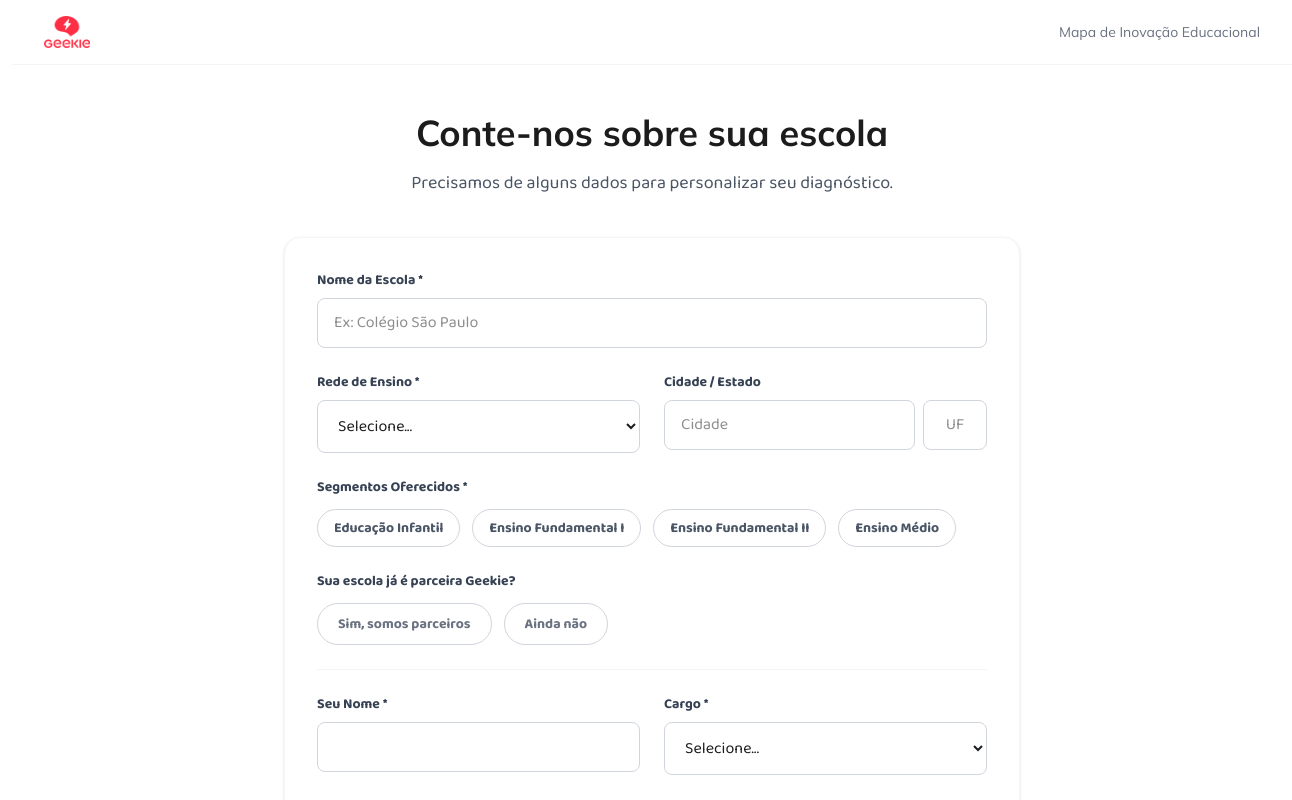
Test case: fluxo: Cadastro → Instrucao › navega para /instrucao após preenchimento válido do formulário
In the field named "nome": (652, 323) left=317, top=298, right=987, bottom=348, type "Escola Teste"
Select "Privada" in the dropdown named "rede": (478, 426) left=317, top=400, right=640, bottom=453
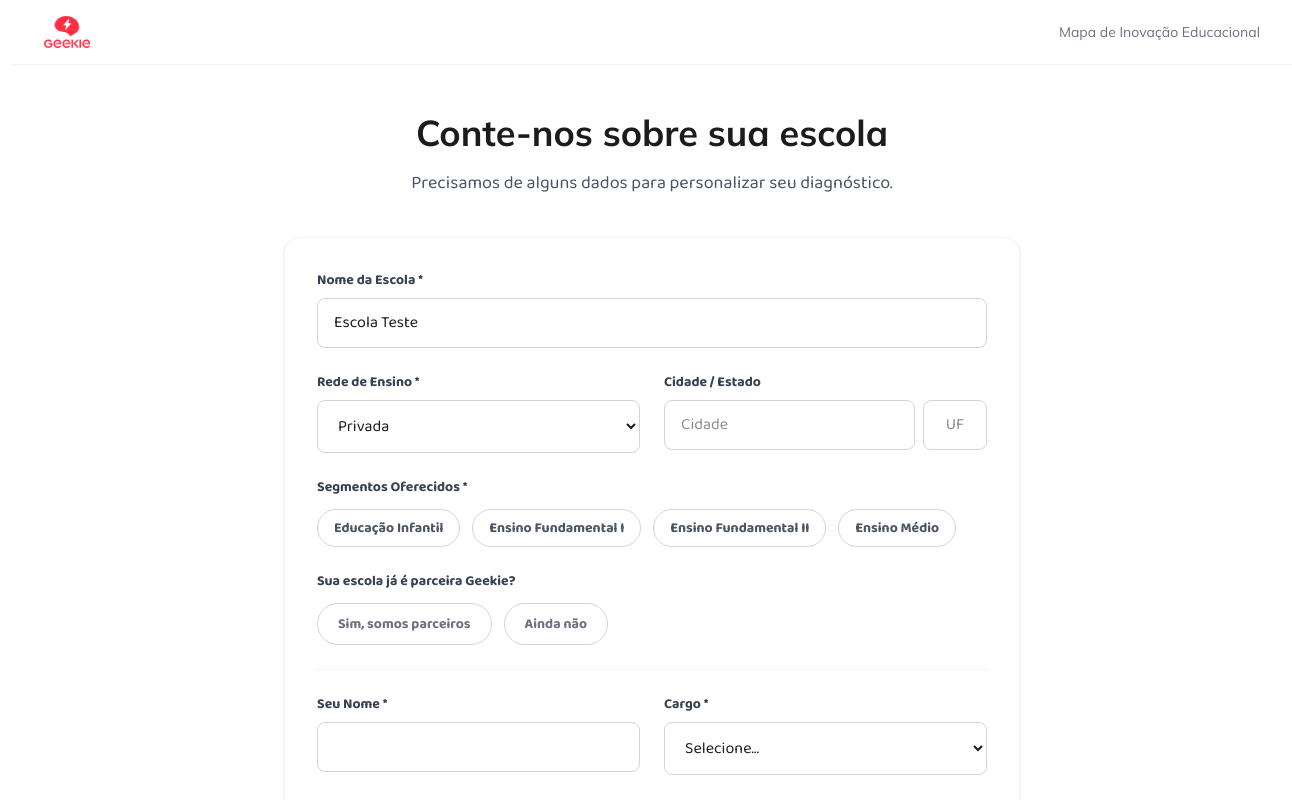
Note: Segmentos: clique no botão do SegmentoSelector
Click the button "Ensino Médio": (897, 528) left=838, top=509, right=956, bottom=547
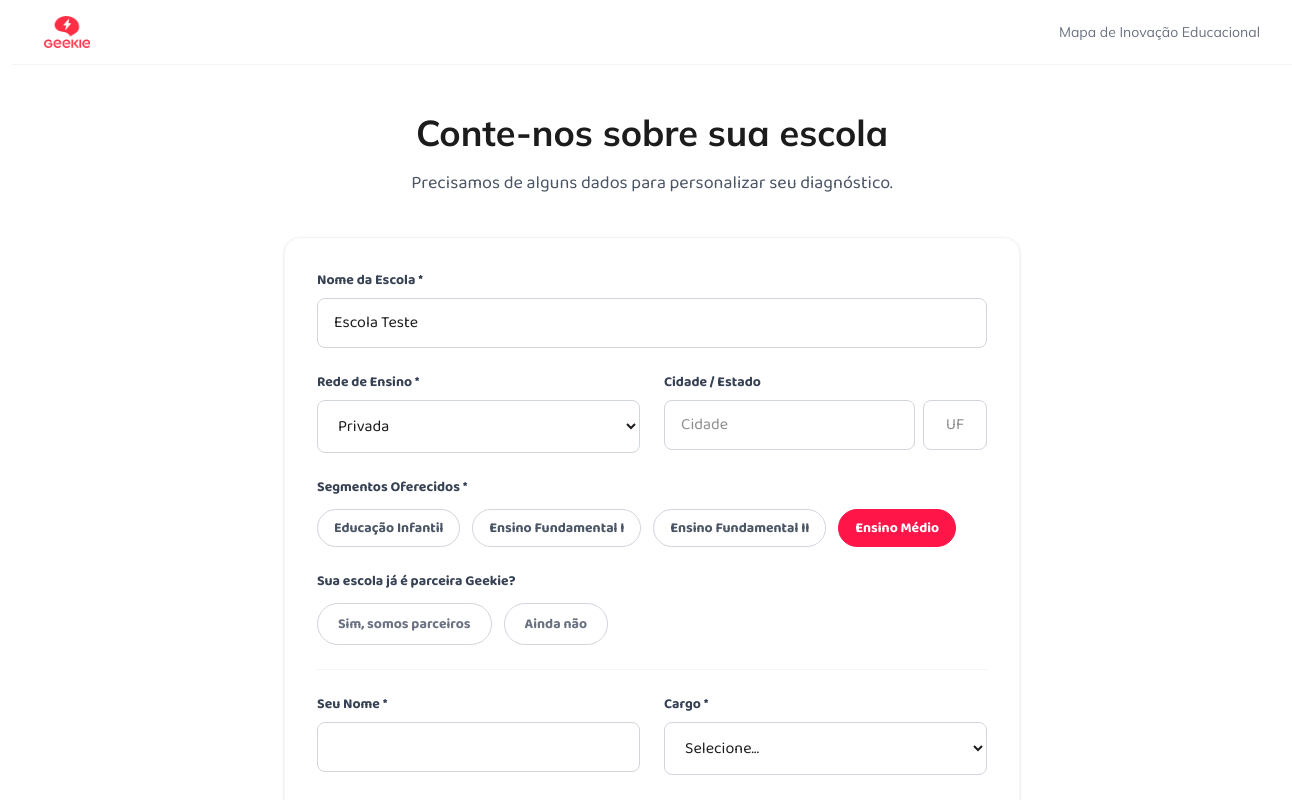
In the field named "contato_nome": (478, 747) left=317, top=722, right=640, bottom=772, type "João Silva"
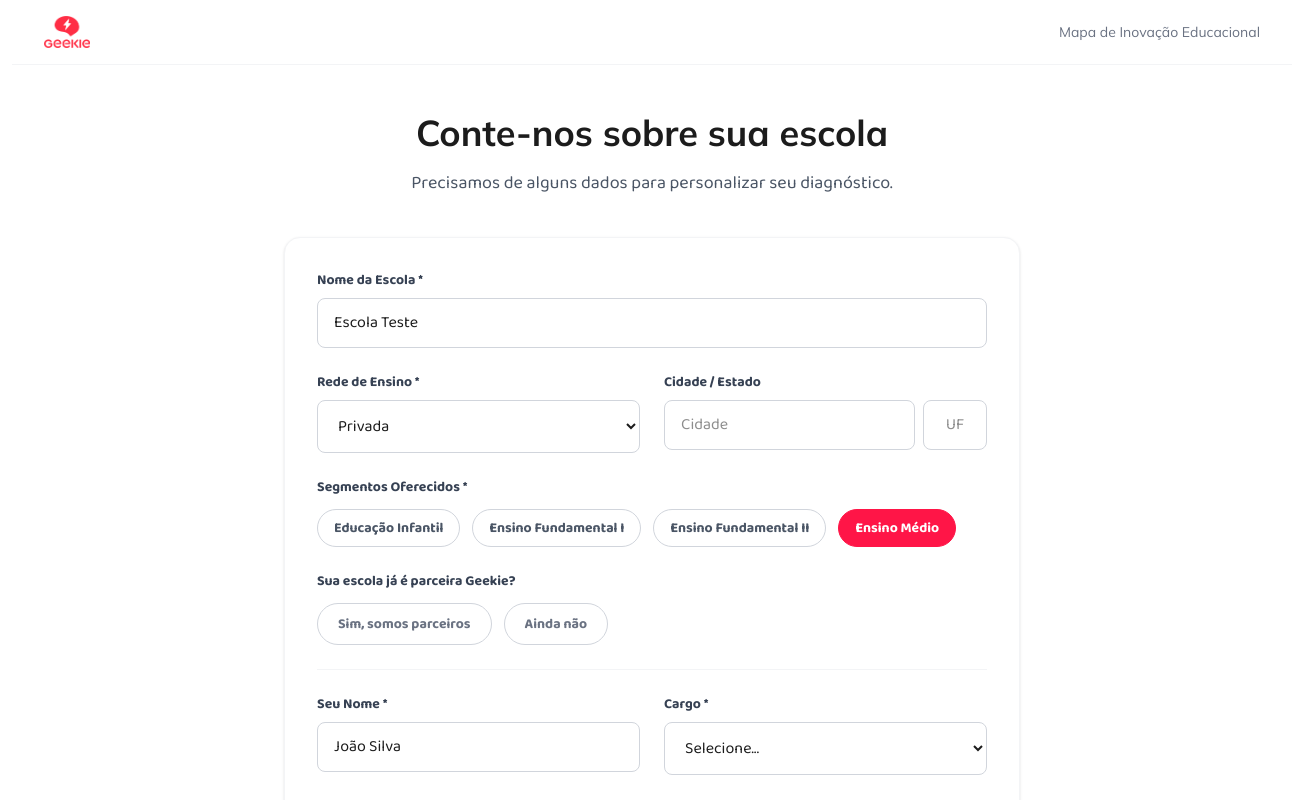
Select "Diretor" in the dropdown named "contato_cargo": (826, 748) left=664, top=722, right=987, bottom=775
(page scrolled)
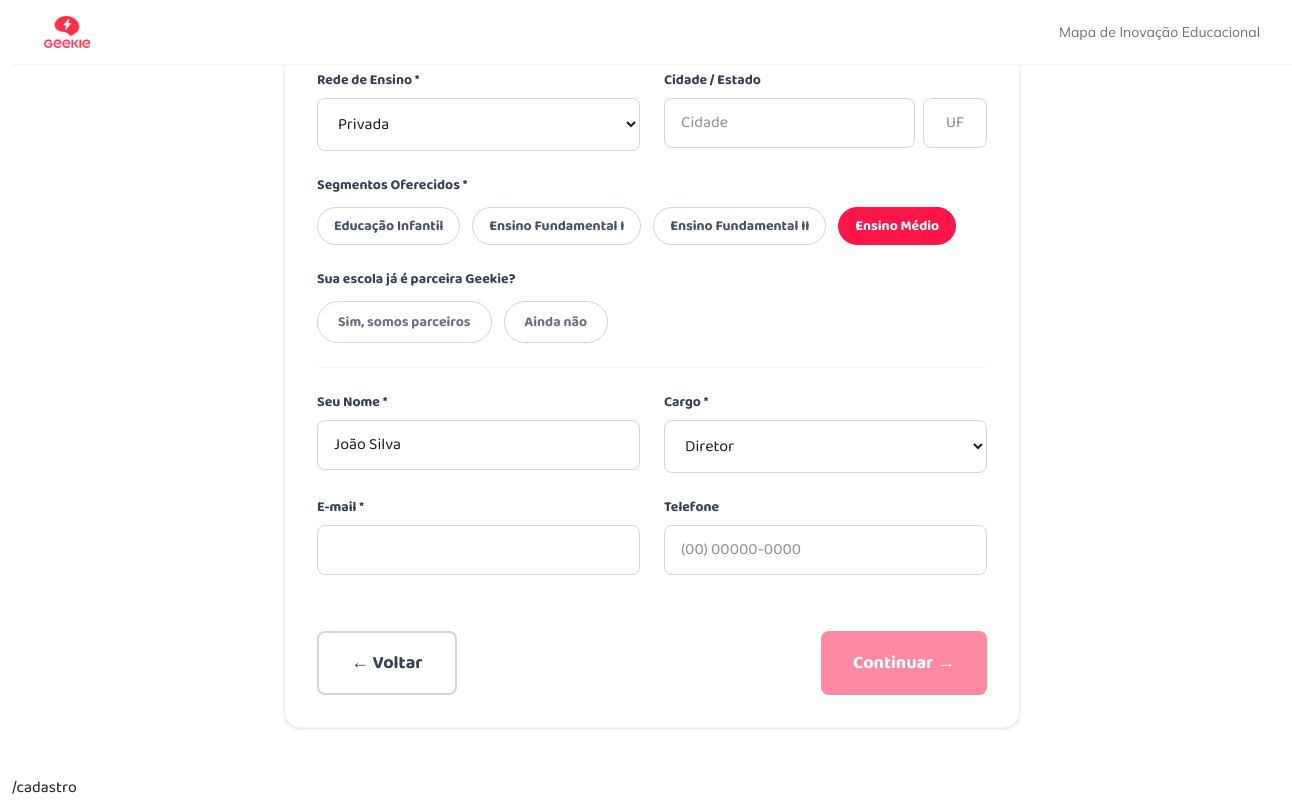
In the field named "contato_email": (478, 550) left=317, top=525, right=640, bottom=575, type "joao@escola.com"
(page scrolled)
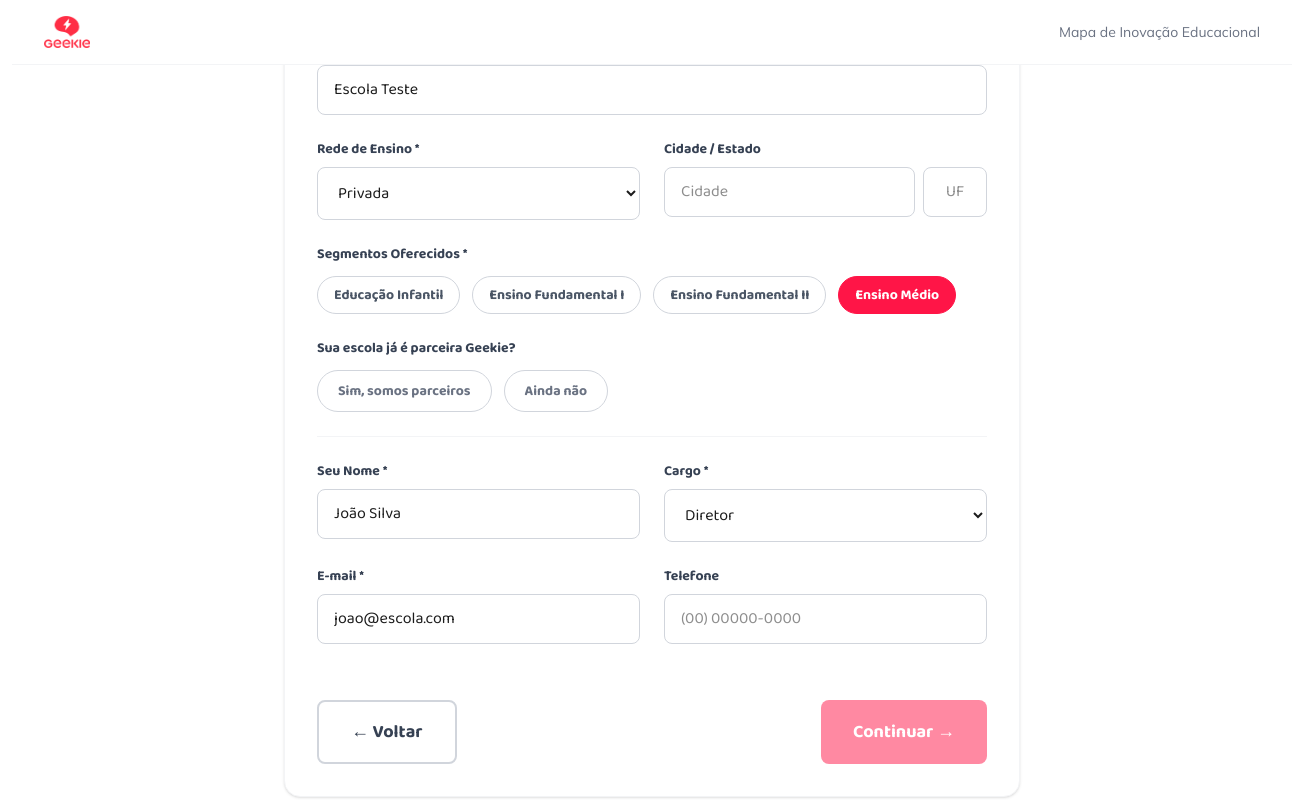
Note: Submete o formulário (handleSubmit do RHF valida tudo e chama onSubmit)
Submit the form, box left=284, top=4, right=1020, bottom=797
(page scrolled)
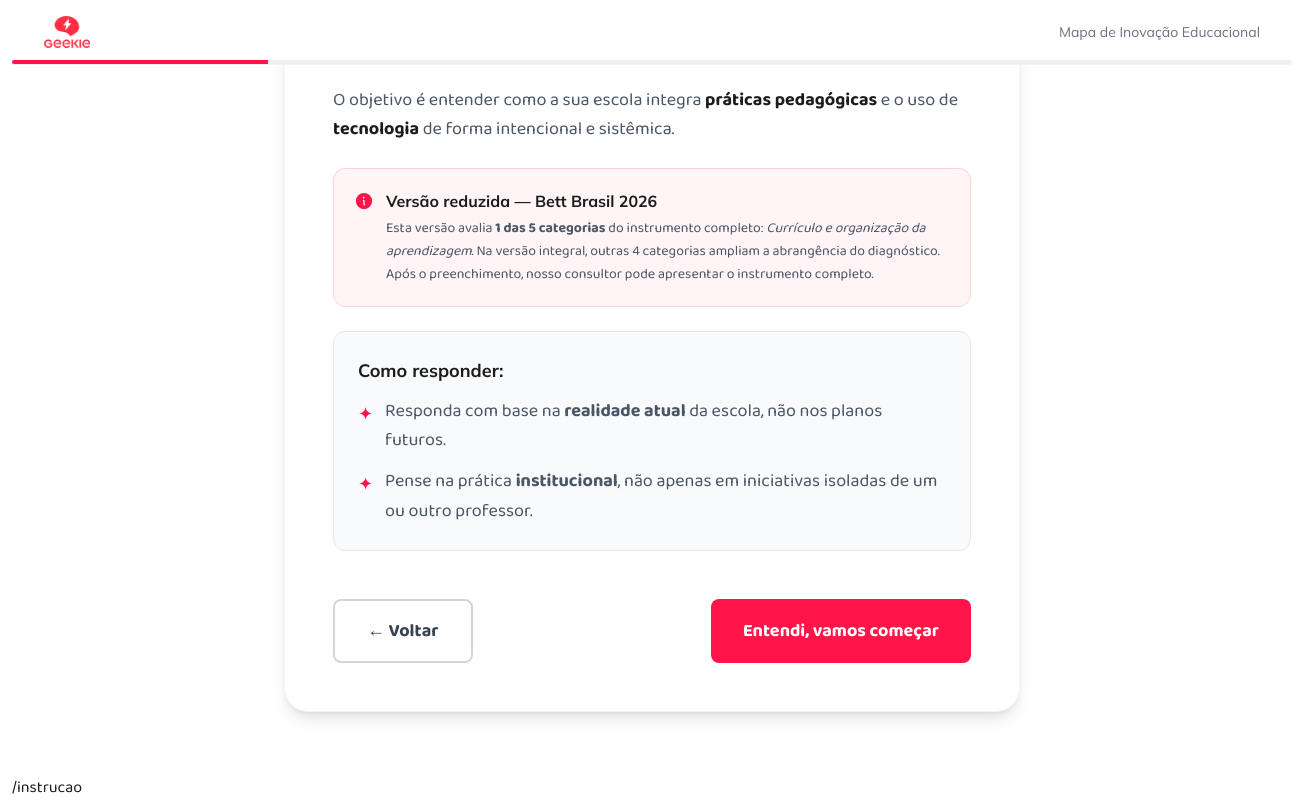
Expected: the text with test id "current-path" reads "/instrucao", left=12, top=775, right=82, bottom=799
